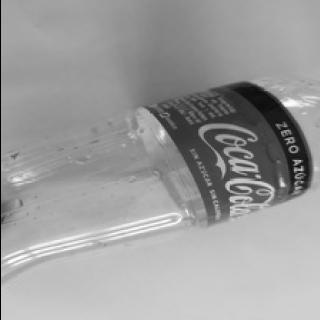plastic_bottles: (0, 73, 319, 284)
